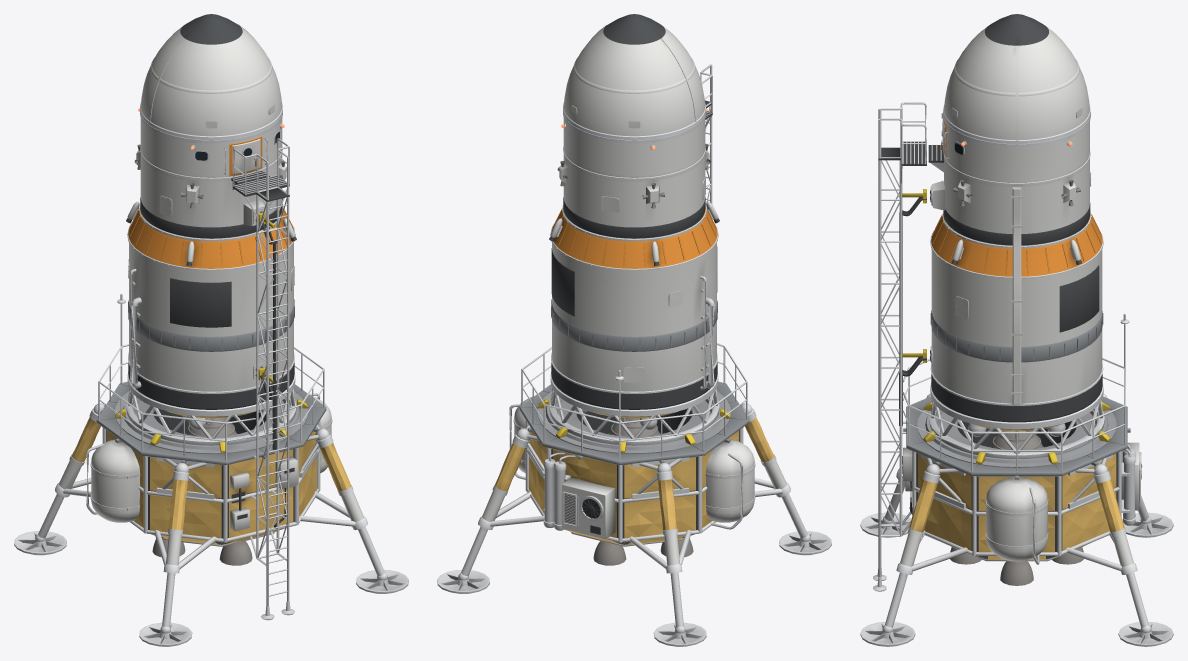
The model's file is mav.glb.
3 renders of one model, left to right at view 1: azimuth 30°, elevation 25°; view 2: azimuth 150°, elevation 25°; view 3: azimuth 270°, elevation 25°, orthographic. The views are drawn at different scales.
Parts seen in each view (by area): view 1: mav_mesh, ascent_mesh, nose_mesh; view 2: ascent_mesh, mav_mesh, nose_mesh; view 3: ascent_mesh, mav_mesh, nose_mesh, nozzle_mesh.
Part boxes in pixels (box(x1,y1,x2,y2)): mav_mesh: box(14, 138, 408, 646); ascent_mesh: box(126, 112, 296, 445); nose_mesh: box(140, 14, 282, 140); ascent_mesh: box(549, 112, 719, 445); mav_mesh: box(437, 64, 831, 646); nose_mesh: box(563, 14, 705, 140); ascent_mesh: box(928, 113, 1104, 458); mav_mesh: box(860, 102, 1173, 646); nose_mesh: box(943, 14, 1090, 144); nozzle_mesh: box(990, 429, 1043, 449).
Bounding box in the file's own units: 7.72 × 15.5 × 7.72.
